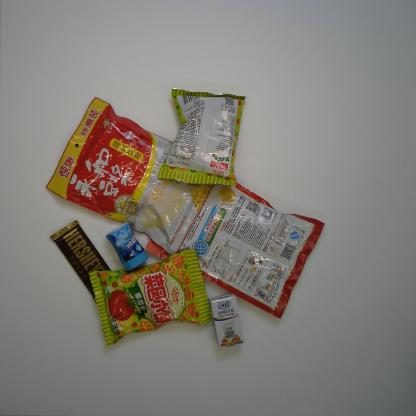Chocolate: (49, 220, 112, 304)
Gum: (106, 221, 148, 272)
Instant Drink: (45, 97, 215, 256), (144, 182, 326, 319)
Milk: (208, 293, 245, 349)
Puffed Food: (88, 247, 213, 348), (157, 86, 247, 186)
